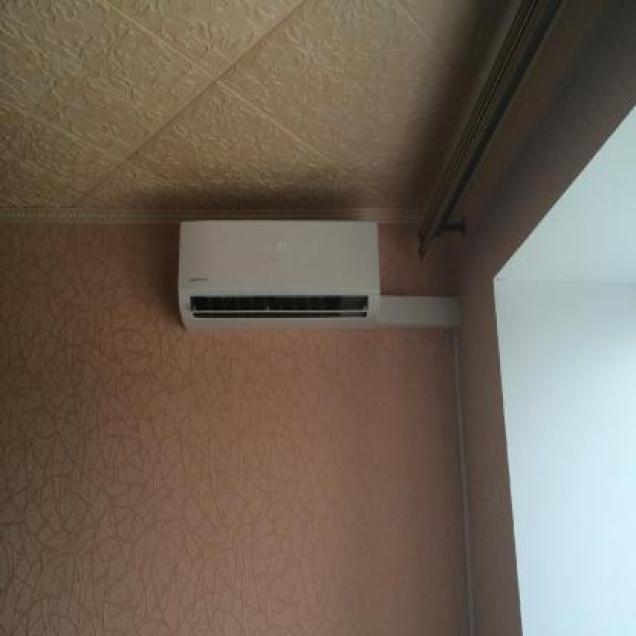AC: (175, 220, 381, 332)
